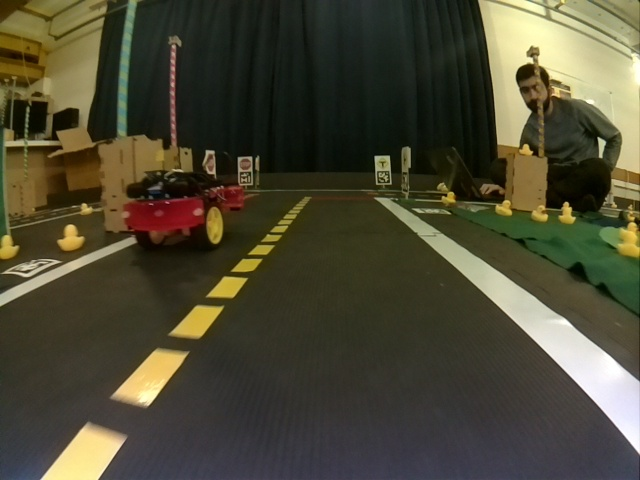Duckie: (57, 224, 85, 251), (1, 235, 19, 258), (618, 233, 633, 257), (619, 223, 639, 240), (533, 205, 548, 222), (495, 202, 512, 216), (559, 208, 572, 223), (442, 192, 456, 204), (80, 203, 91, 215), (520, 144, 531, 153)
Duckiebot: (123, 169, 225, 247)
Intersection sign: (376, 158, 390, 168), (402, 150, 409, 170)
QR code: (5, 259, 59, 277), (414, 208, 451, 216), (401, 171, 409, 191), (239, 172, 251, 184), (376, 174, 389, 184)
Stop sign: (239, 158, 251, 168)
